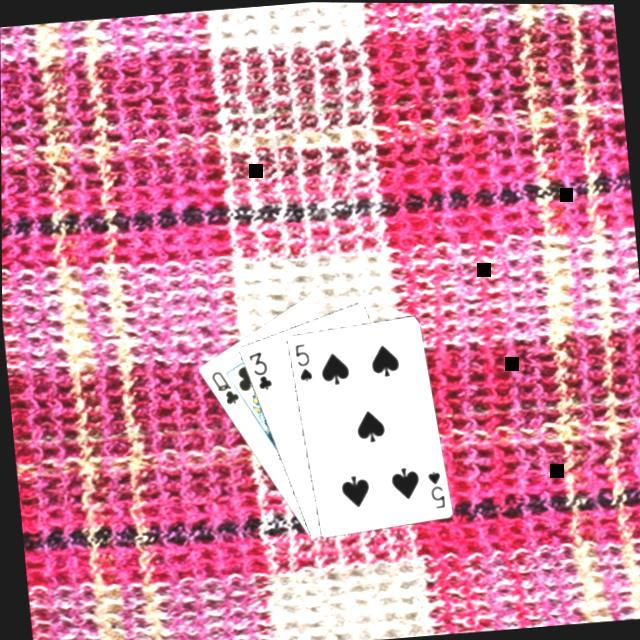3C: (244, 345, 274, 392)
5S: (423, 464, 448, 510), (291, 338, 315, 383)
QC: (206, 364, 241, 408)
